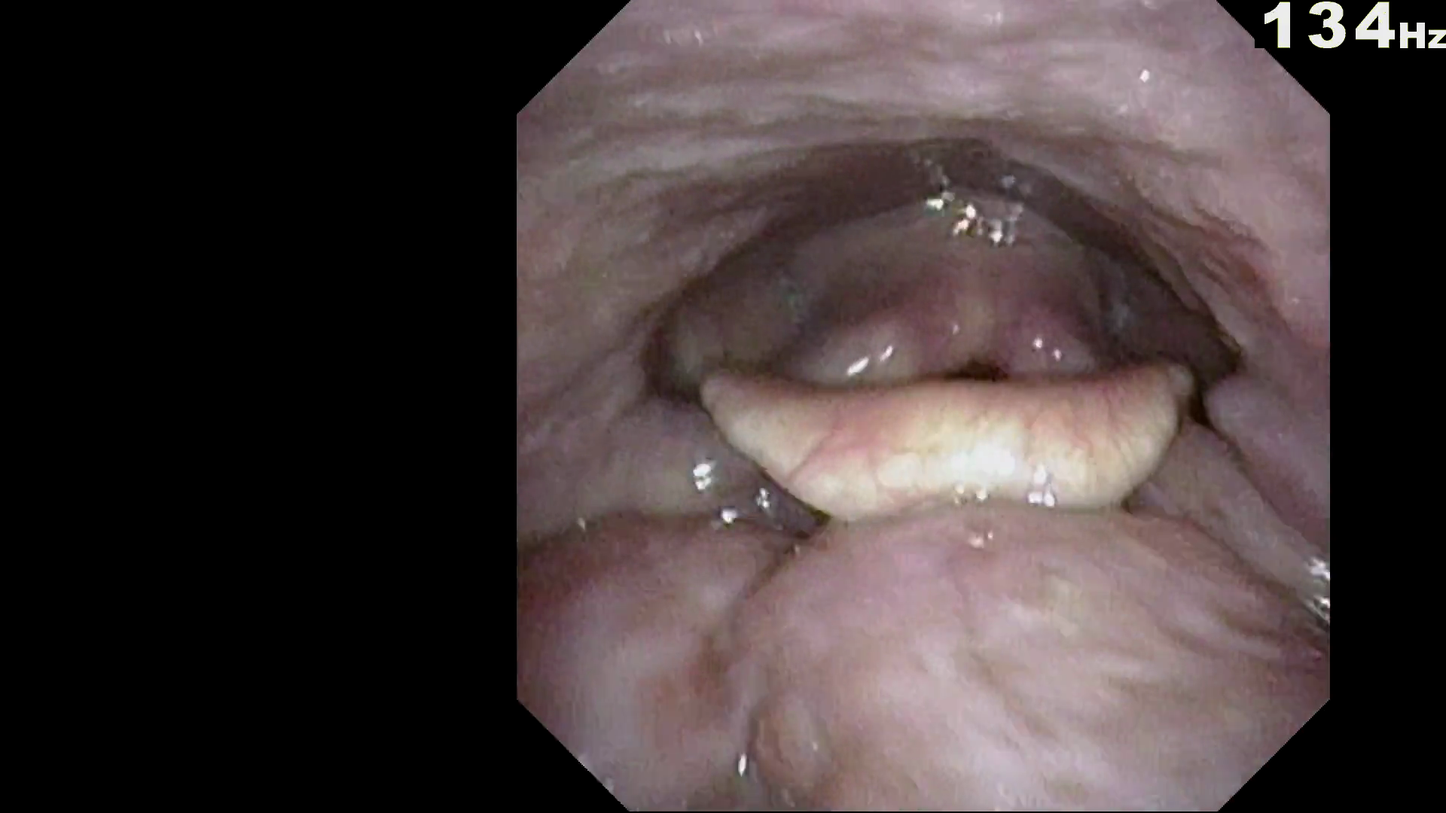epiglottis: (699, 332, 1165, 451)
